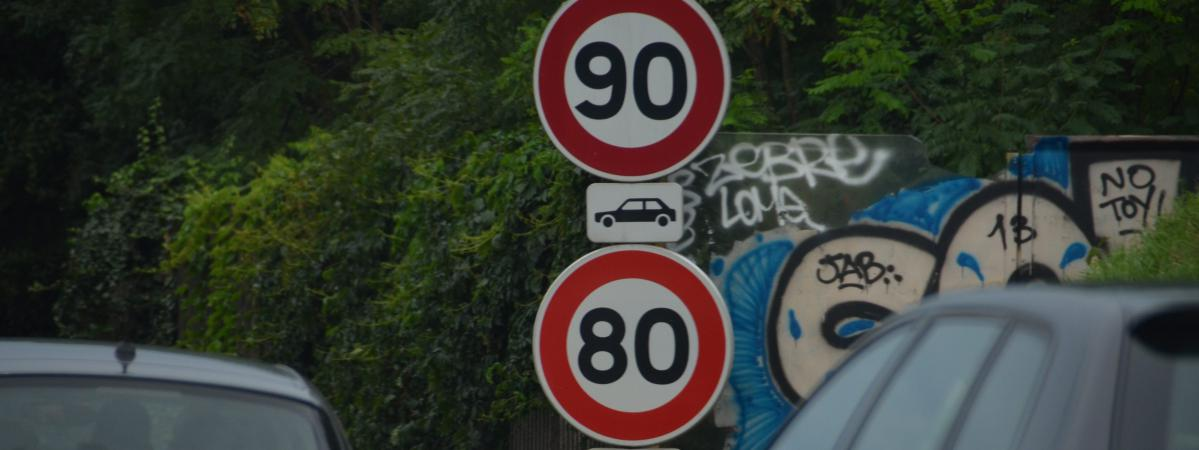Speed_limit_80km: (530, 243, 735, 442)
Speed_limit_90km: (534, 1, 730, 176)
